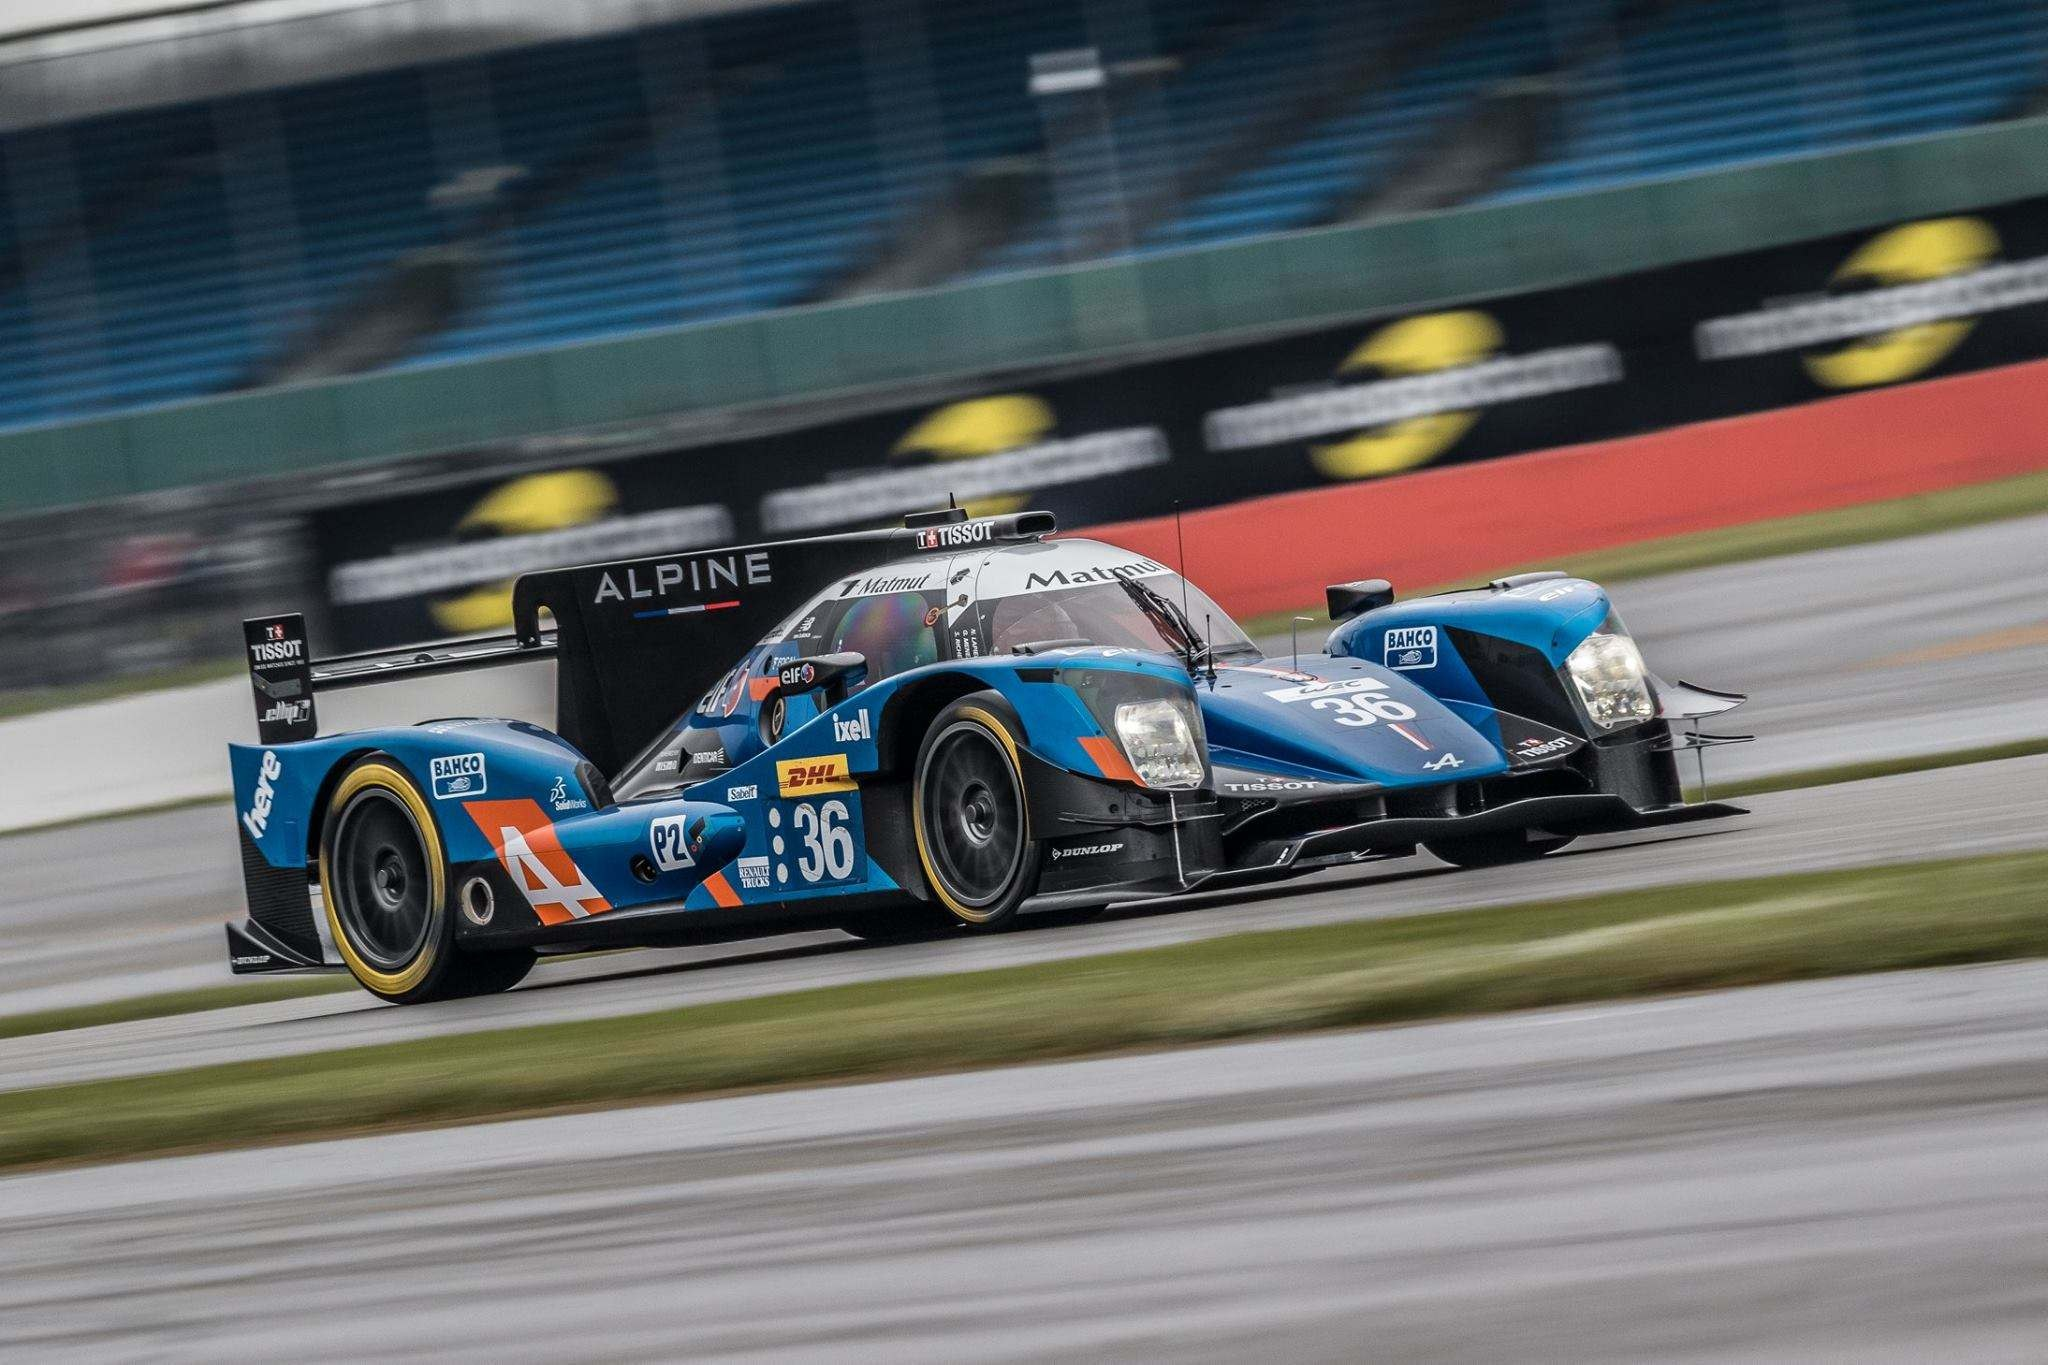racing car: (196, 486, 1777, 992)
